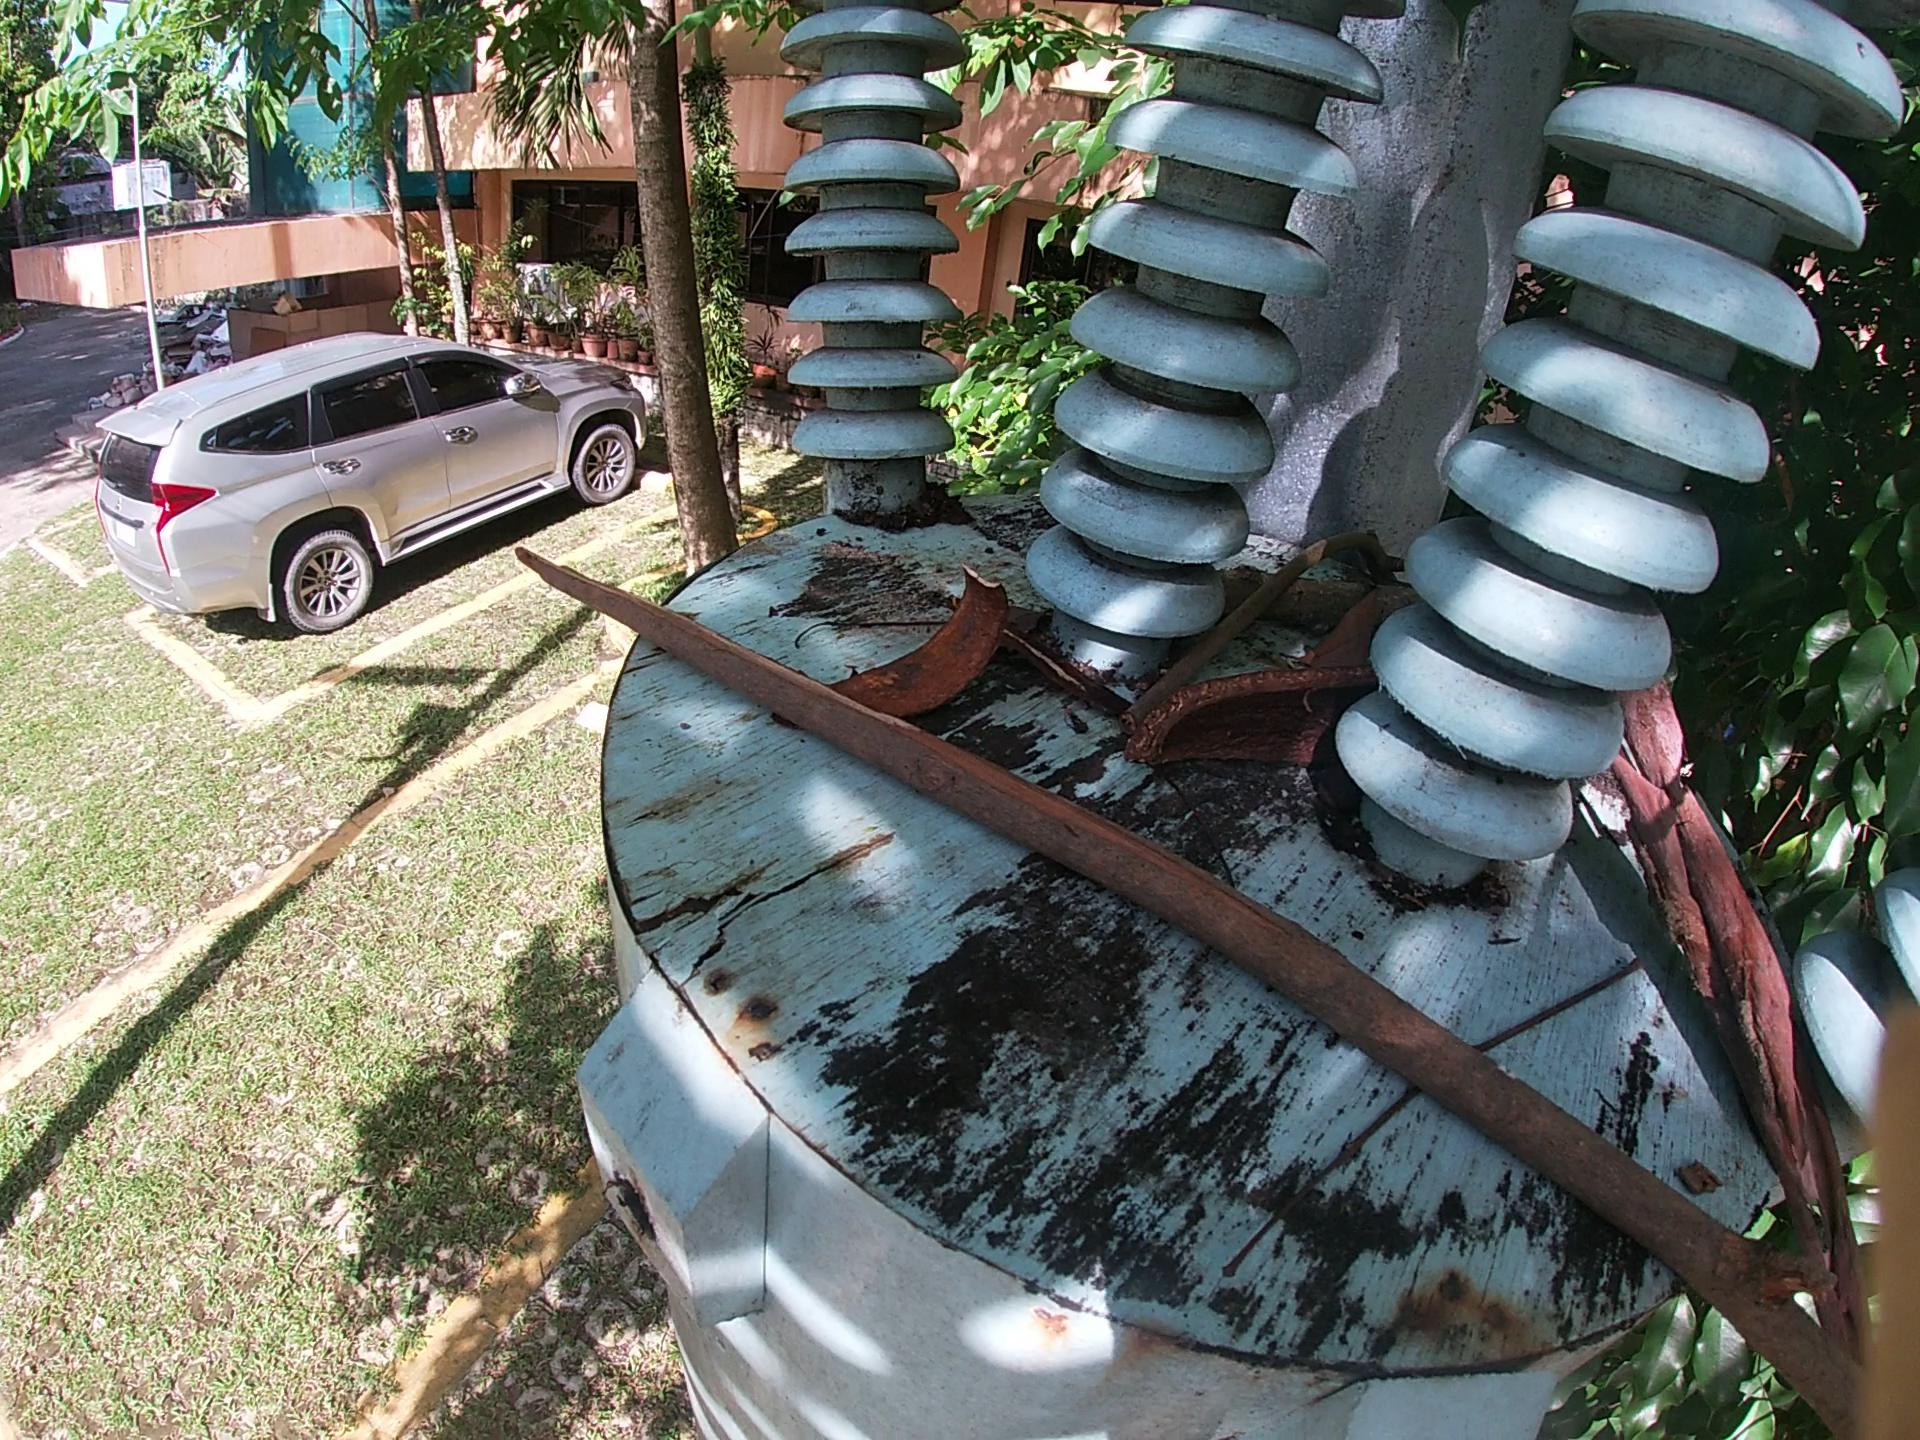leaf: (1256, 594, 1411, 672)
mahogany fruit: (821, 564, 1023, 709), (1089, 675, 1417, 759)
tree branch: (500, 540, 1887, 1416), (1601, 628, 1881, 1373), (1209, 936, 1683, 1287), (1108, 510, 1379, 715), (1212, 566, 1432, 625), (774, 610, 966, 635)
